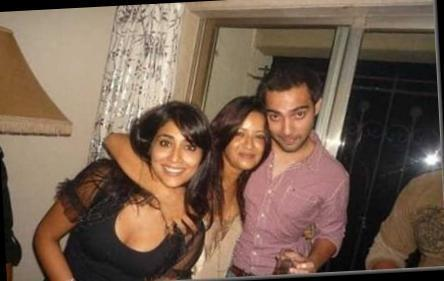Drunk: (265, 91, 313, 150), (153, 126, 198, 188), (226, 113, 264, 169)
